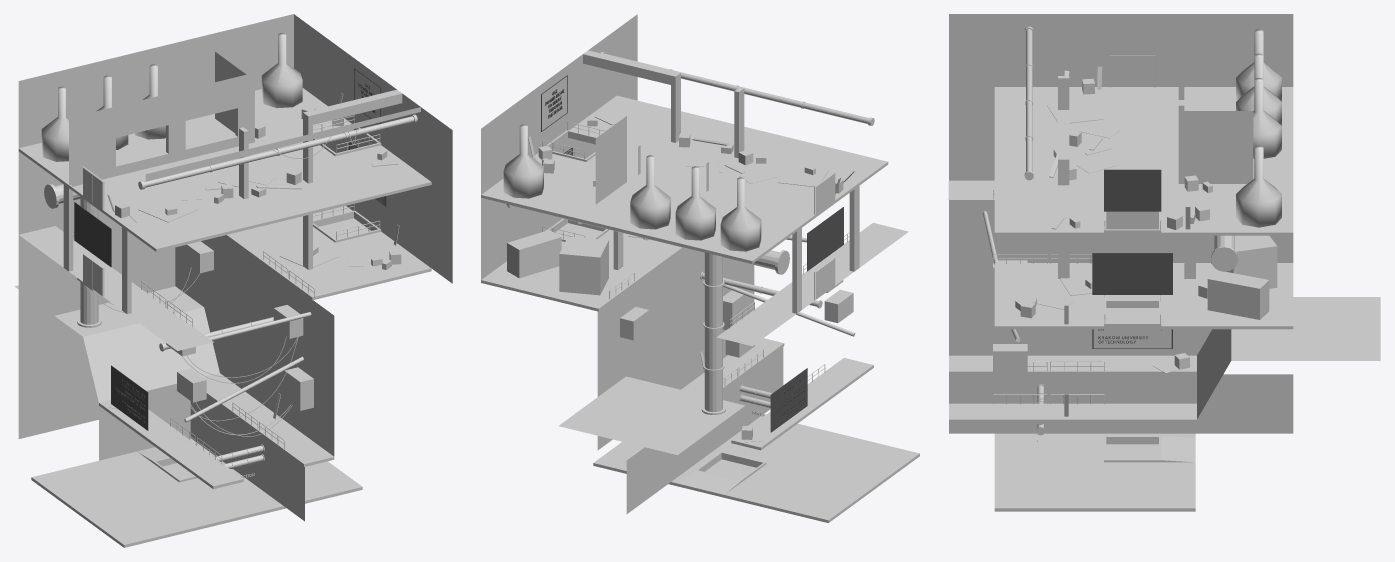
Rendered from map.glb.
3 renders of one model, left to right at view 1: azimuth 30°, elevation 25°; view 2: azimuth 150°, elevation 25°; view 3: azimuth 270°, elevation 25°, orthographic. The views are drawn at different scales.
Visible parts, largest first — view 1: Floor.005, Wall, Frame, A_Plane.029, NurbsPath.007, FrameBackground; view 2: Floor.005, Wall, Frame, A_Plane.029, FrameBackground; view 3: Floor.005, Wall, Frame, FrameBackground, A_Plane.029.
Part boxes in pixels (x1=…): Floor.005: x1=14, y1=33, x2=431, y2=547; Wall: x1=18, y1=14, x2=452, y2=521; Frame: x1=74, y1=68, x2=386, y2=430; A_Plane.029: x1=73, y1=115, x2=380, y2=463; NurbsPath.007: x1=86, y1=128, x2=357, y2=436; FrameBackground: x1=355, y1=70, x2=380, y2=123; Floor.005: x1=481, y1=50, x2=919, y2=522; Wall: x1=481, y1=14, x2=783, y2=513; Frame: x1=541, y1=75, x2=843, y2=432; A_Plane.029: x1=542, y1=122, x2=849, y2=385; FrameBackground: x1=542, y1=76, x2=566, y2=130; Floor.005: x1=948, y1=26, x2=1380, y2=511; Wall: x1=949, y1=14, x2=1293, y2=433; Frame: x1=1092, y1=169, x2=1172, y2=348; FrameBackground: x1=1093, y1=329, x2=1171, y2=348; A_Plane.029: x1=993, y1=189, x2=1211, y2=404.
Size of the model in its own units: 33.5 by 37.5 by 37.61.
Materials: 2 (1 with a texture image).
